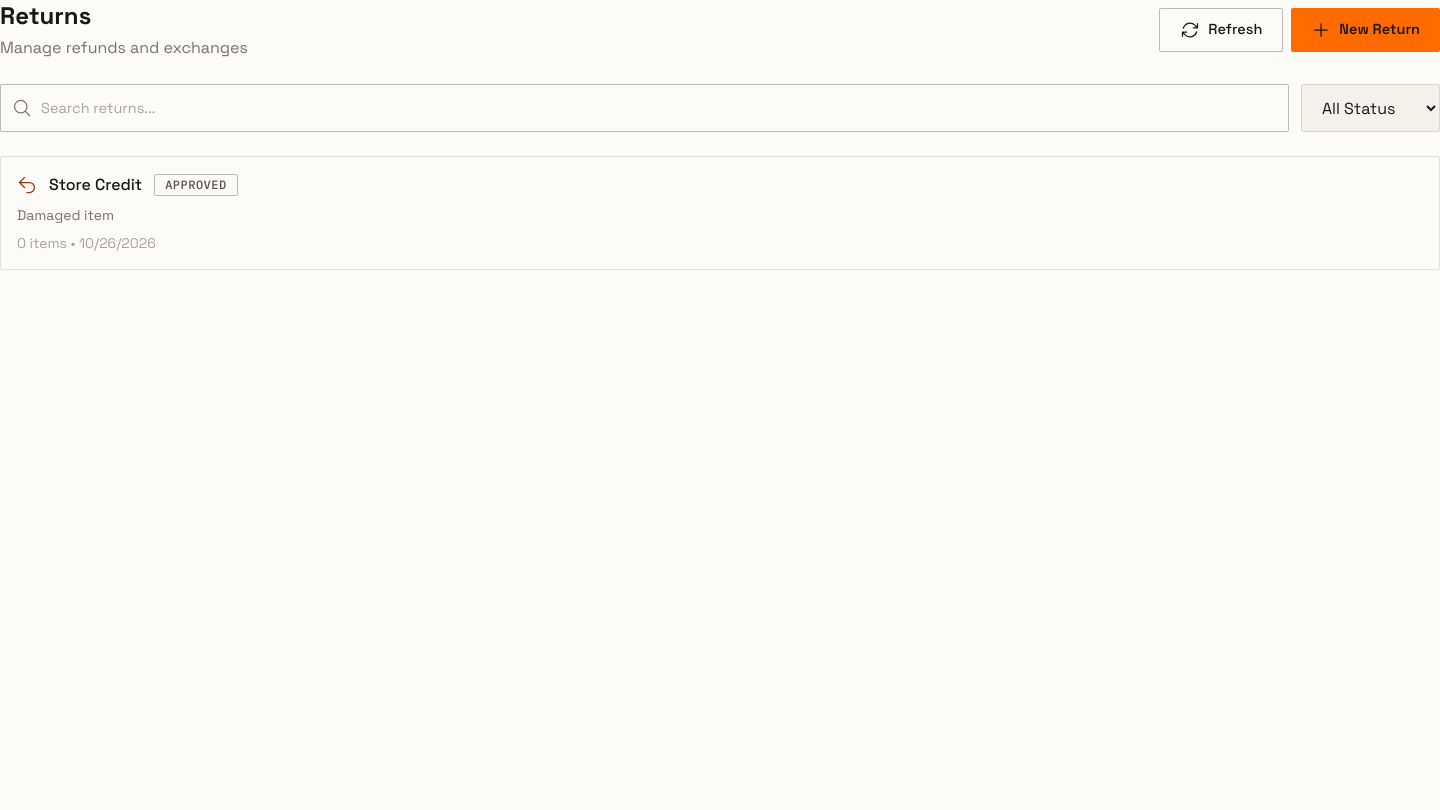
it: paid-sale store-credit completion › keeps the detail open and reports failure when completion has no persisted ledger entry
The width and height of the screenshot is (1440, 810).
Click the text "Damaged item" at (66, 215), box [17,206,114,224]
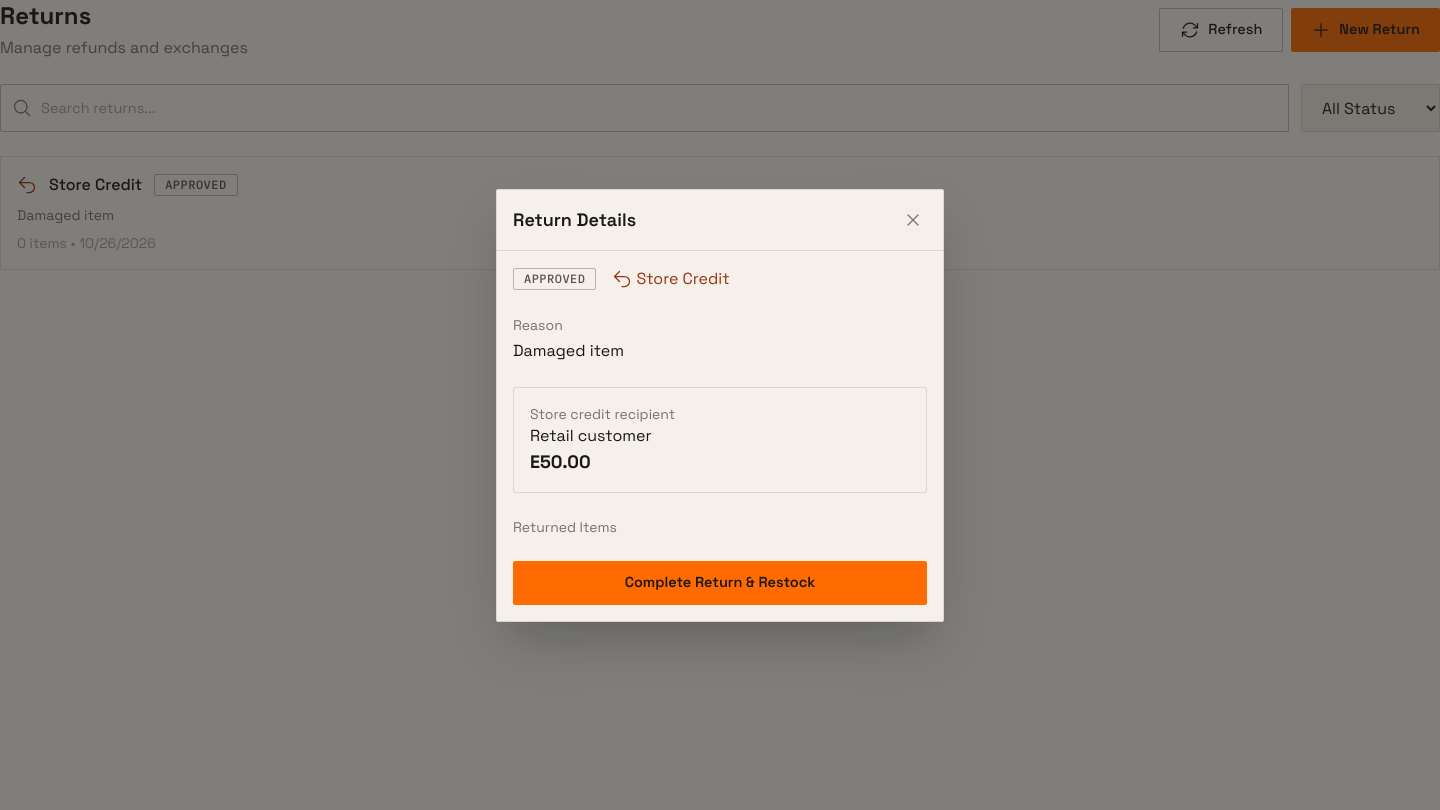
Now the text "Retail customer" is shown, box [530,424,652,446]
Click the button "Complete Return & Restock" at (720, 582), box [513,560,927,604]
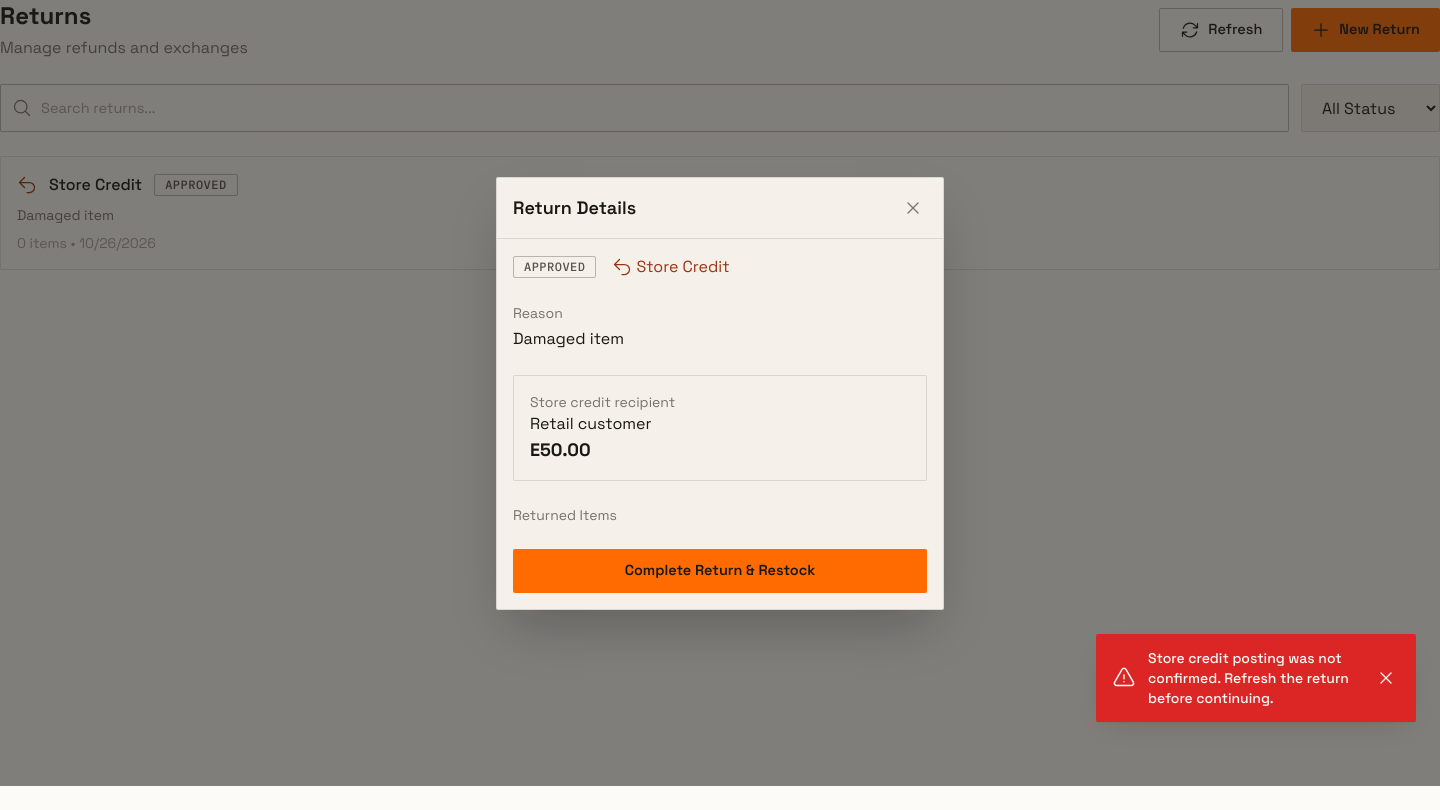
Now the button "Complete Return & Restock" is shown, box [513,548,927,592]
Now the text "Store credit posting was not confirmed" is shown, box [1148,649,1349,707]
